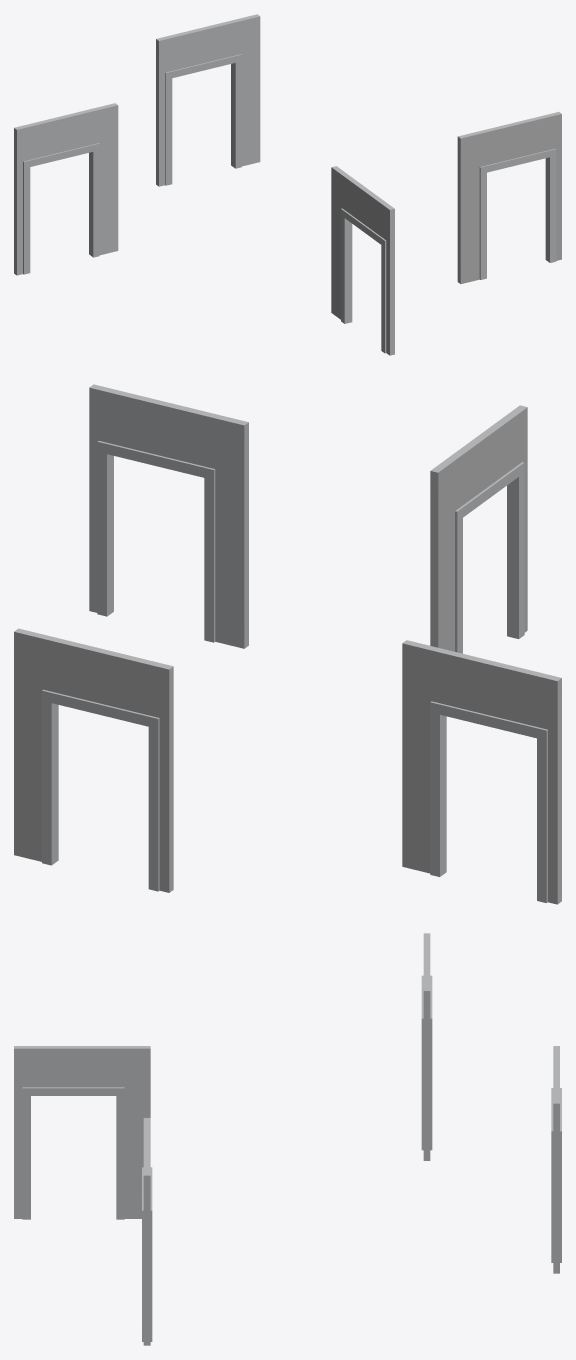
File: DOORWAYS.fbx
3 renders of one model, top to bottom at view 1: azimuth 30°, elevation 25°; view 2: azimuth 150°, elevation 25°; view 3: azimuth 270°, elevation 25°, orthographic. The views are drawn at different scales.
Parts seen in each view (by area): view 1: Doors_Type_3_Wall_Surgical_Room1; view 2: Doors_Type_3_Wall_Surgical_Room1; view 3: Doors_Type_3_Wall_Surgical_Room1.
Boxes of the visible parts, x1,y1,x2,y2 form: Doors_Type_3_Wall_Surgical_Room1: [14, 14, 561, 355]; Doors_Type_3_Wall_Surgical_Room1: [14, 384, 561, 904]; Doors_Type_3_Wall_Surgical_Room1: [14, 933, 561, 1345].
Size of the model in its own units: 8.4 by 2.75 by 8.03.
Materials: 1 (1 with a texture image).
